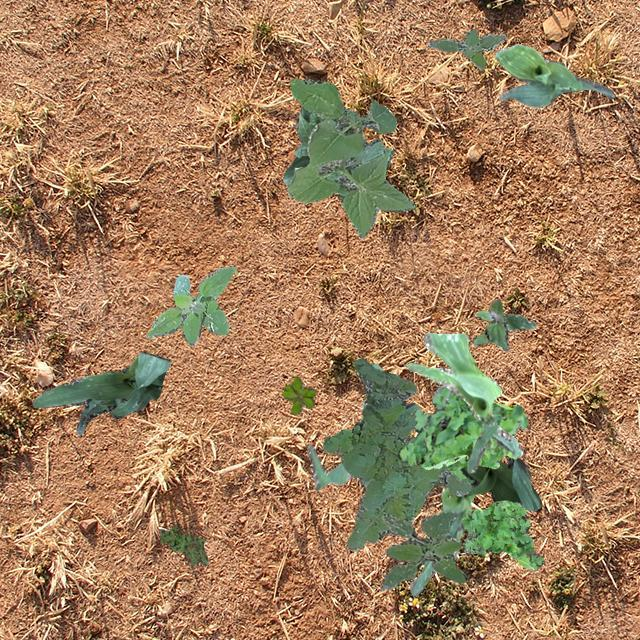crop: (404, 332, 522, 472), (32, 351, 170, 434), (307, 362, 381, 490), (408, 456, 476, 594), (494, 42, 614, 106), (282, 104, 358, 184), (458, 454, 542, 510)
weed: (322, 357, 471, 550), (286, 78, 414, 238), (396, 384, 526, 470), (146, 266, 236, 344), (379, 509, 466, 588), (461, 499, 544, 568), (472, 298, 536, 349), (426, 28, 504, 68), (158, 522, 206, 564), (282, 376, 316, 414)
